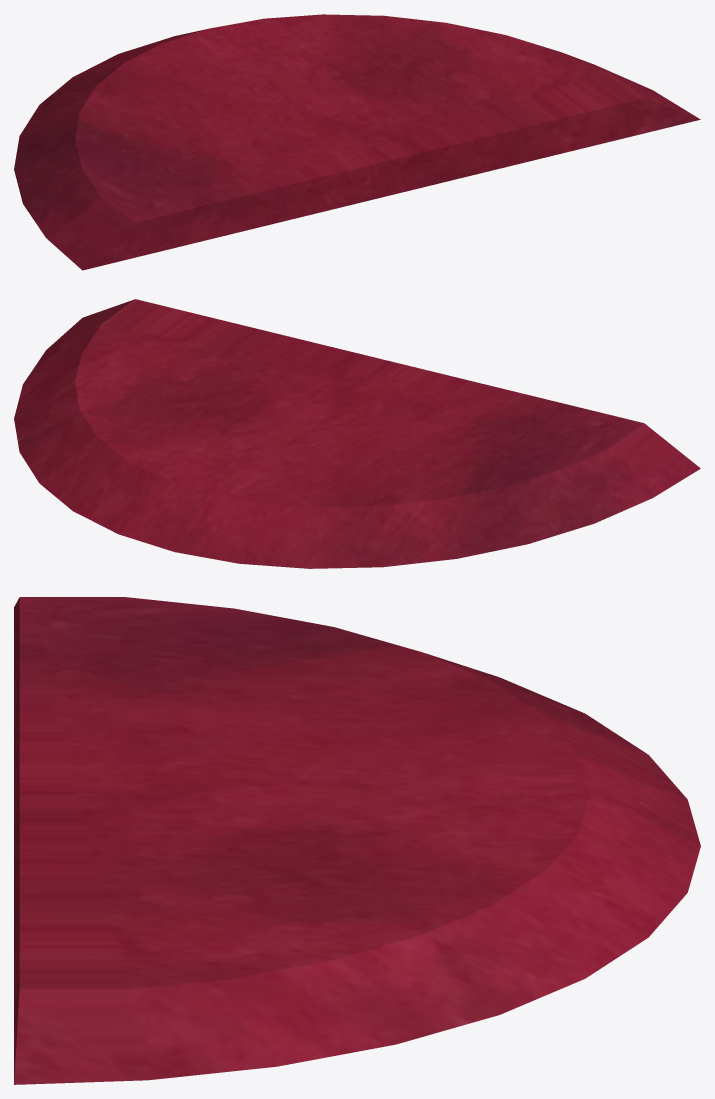
The model's file is Altair_collider.glb.
3 views of the same model, one above another, from view 1: azimuth 30°, elevation 25°; view 2: azimuth 150°, elevation 25°; view 3: azimuth 270°, elevation 25° (orthographic). The views are drawn at different scales.
Parts seen in each view (by area): view 1: Altar_collider; view 2: Altar_collider; view 3: Altar_collider.
Part boxes in pixels (box(x1,y1,x2,y2)): Altar_collider: box(14, 14, 700, 270); Altar_collider: box(14, 299, 700, 568); Altar_collider: box(14, 597, 700, 1084).
Size of the model in its own units: 9.22 by 0.4742 by 5.6.
1 material, 1 textured.
